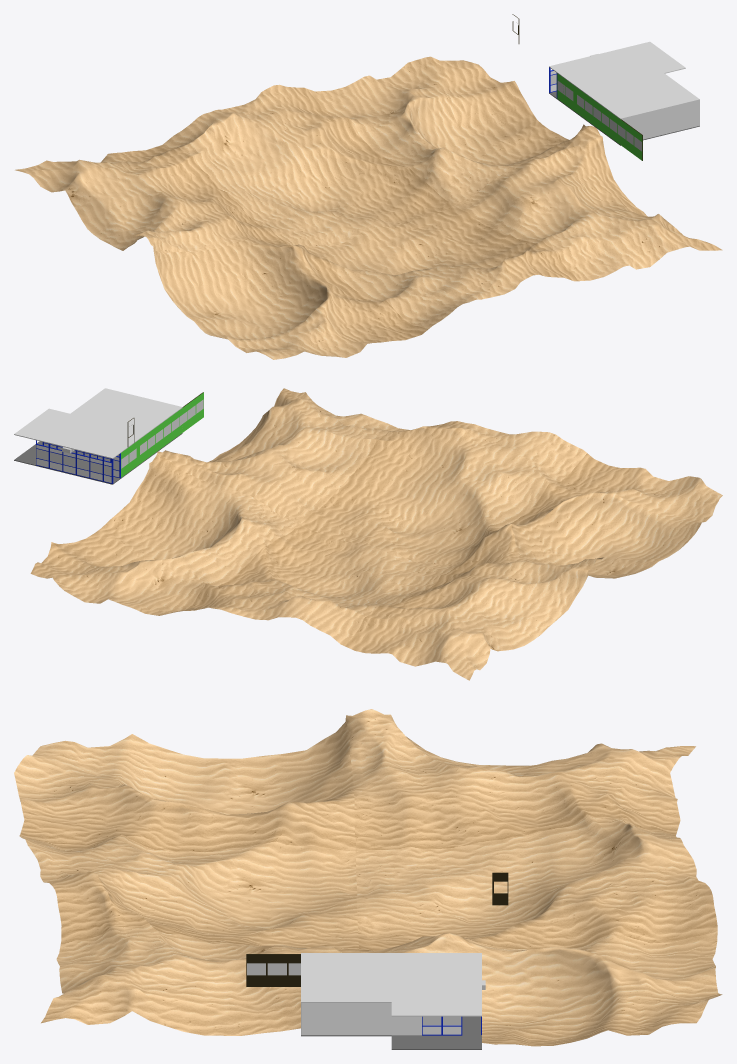
Rendered from Modell3.glb.
The picture shows the model from 3 angles, top to bottom: view 1: azimuth 30°, elevation 25°; view 2: azimuth 150°, elevation 25°; view 3: azimuth 270°, elevation 25°; orthographic projection. The views are drawn at different scales.
Parts seen in each view (by area): view 1: Wiese, ceiling, window.wall, west; view 2: Wiese, ceiling, window.wall, east.001, floor; view 3: Wiese, ceiling, south_brickwall, floor, window.wall.
Boxes of the visible parts, x1=… form: Wiese: x1=15, y1=56, x2=722, y2=359; ceiling: x1=549, y1=41, x2=699, y2=119; window.wall: x1=557, y1=73, x2=642, y2=160; west: x1=620, y1=100, x2=699, y2=139; Wiese: x1=30, y1=388, x2=722, y2=680; ceiling: x1=14, y1=388, x2=182, y2=458; window.wall: x1=121, y1=392, x2=203, y2=477; east.001: x1=36, y1=440, x2=113, y2=483; floor: x1=14, y1=433, x2=182, y2=484; Wiese: x1=14, y1=709, x2=722, y2=1046; ceiling: x1=301, y1=953, x2=481, y2=1016; south_brickwall: x1=301, y1=1003, x2=421, y2=1035; floor: x1=301, y1=1016, x2=481, y2=1049; window.wall: x1=246, y1=954, x2=300, y2=986.
Size of the model in its own units: 76.24 by 17.51 by 65.38.
Materials: 10 (1 with a texture image).
